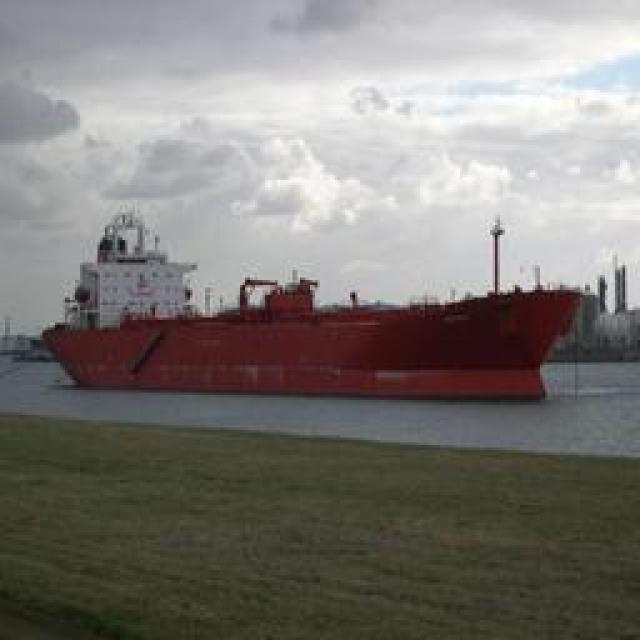CIV_Ship: (40, 236, 588, 402)
